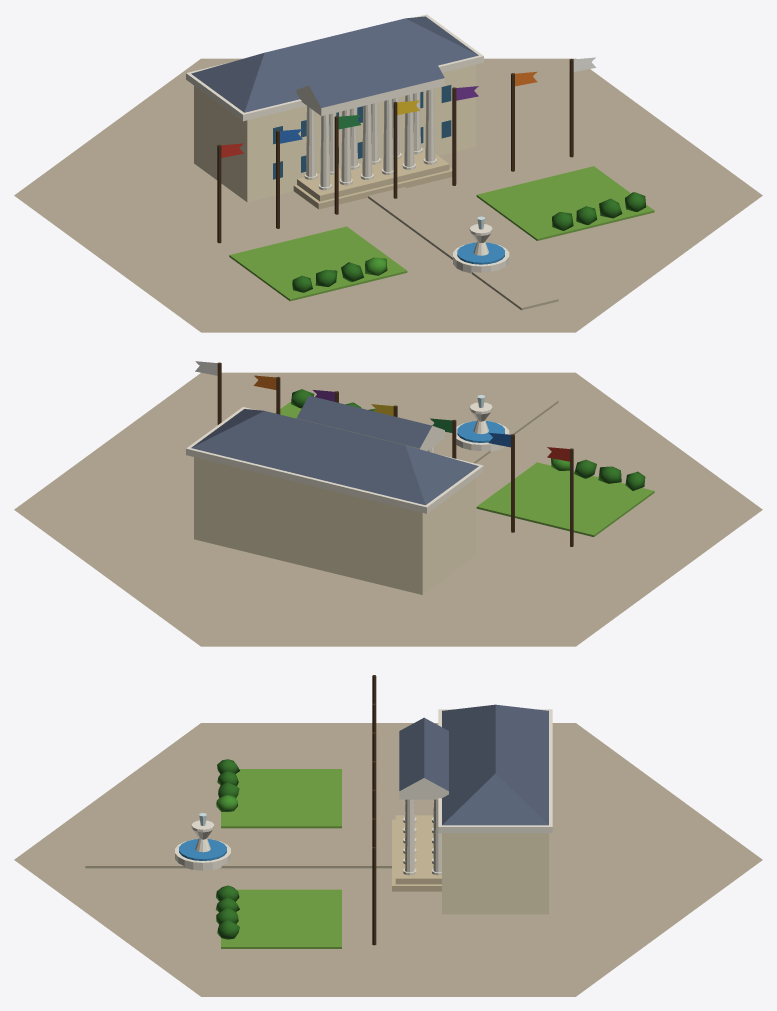
The model's file is district_diplomatic_quarter_1.fbx.
The picture shows the model from 3 angles, top to bottom: view 1: azimuth 30°, elevation 25°; view 2: azimuth 150°, elevation 25°; view 3: azimuth 270°, elevation 25°; orthographic projection.
Visible parts, largest first — view 1: district_diplomatic_quarter_1; view 2: district_diplomatic_quarter_1; view 3: district_diplomatic_quarter_1.
Part boxes in pixels (x1,y1,x2,y2): district_diplomatic_quarter_1: (14, 14, 762, 332); district_diplomatic_quarter_1: (14, 361, 762, 646); district_diplomatic_quarter_1: (14, 675, 762, 996).
Size of the model in its own units: 182 by 37.4 by 210.
